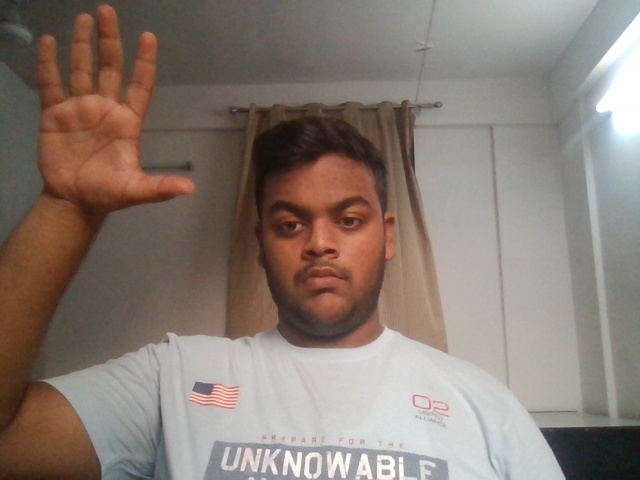Hello: (6, 1, 222, 226)
